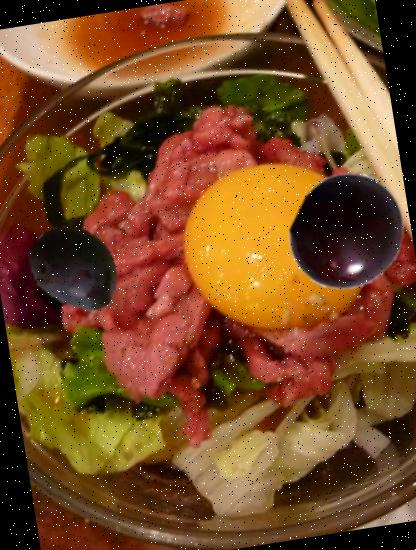Cherry: (279, 164, 416, 301)
Plum: (22, 214, 132, 324)
